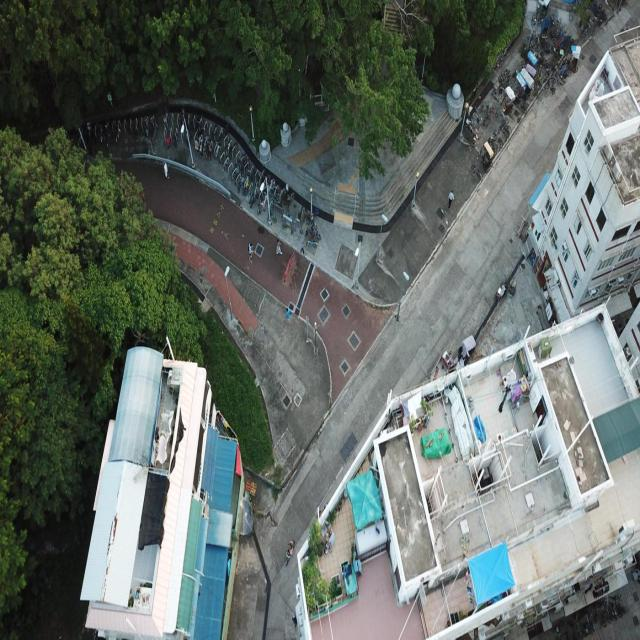person: (447, 190, 454, 209)
tree: (0, 120, 206, 634)
